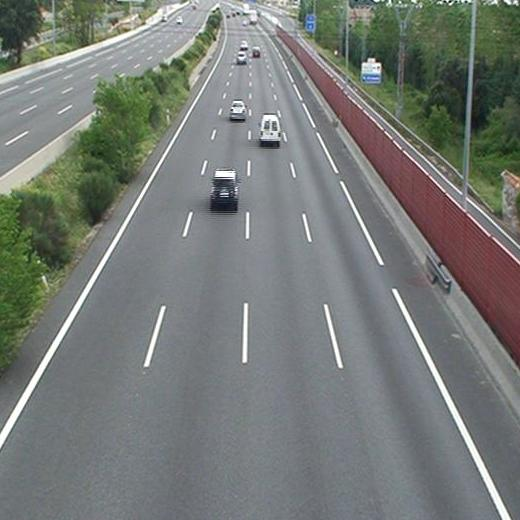car: (212, 171, 237, 203), (229, 100, 247, 119), (236, 51, 247, 63), (251, 47, 261, 58)
van: (260, 114, 280, 142)
